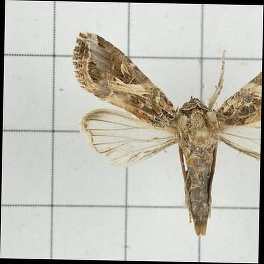Spodoptera litura: (69, 33, 261, 235)
